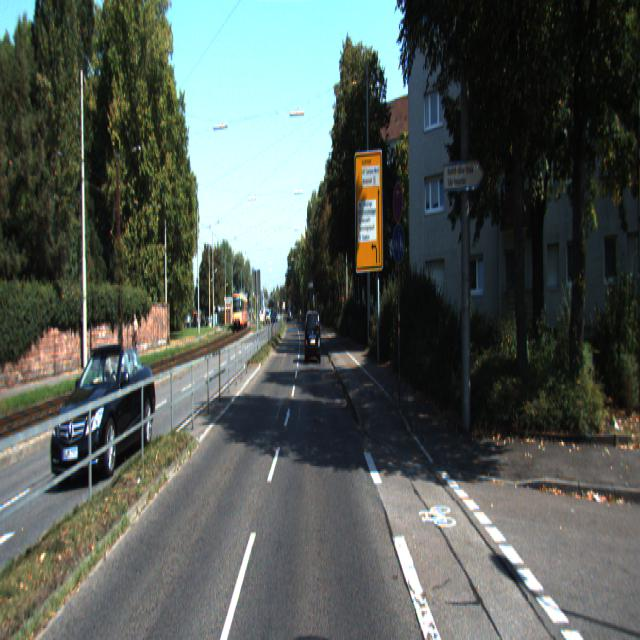Car: (52, 342, 157, 489), (304, 310, 322, 364), (233, 292, 248, 329)
